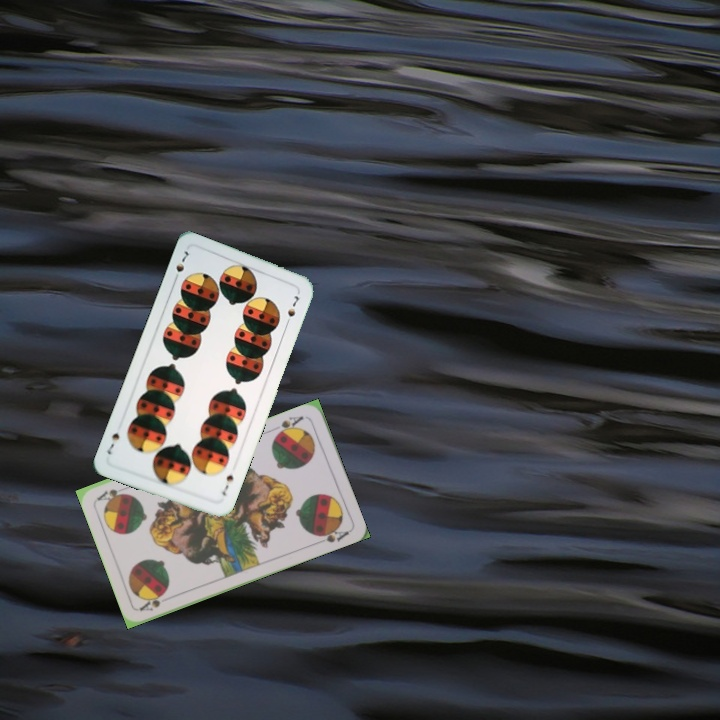S7: (169, 246, 191, 285), (218, 470, 236, 498)
SA: (272, 412, 306, 439), (135, 589, 169, 614)
